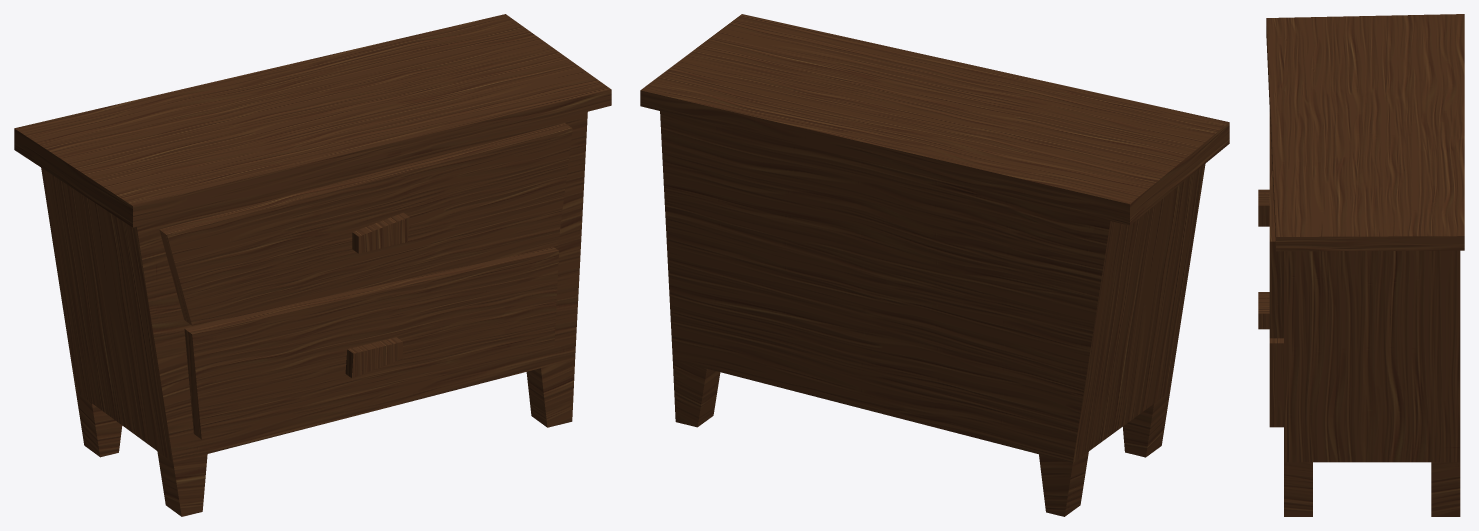
The model's file is LargeDrawer.fbx.
The picture shows the model from 3 angles, left to right: view 1: azimuth 30°, elevation 25°; view 2: azimuth 150°, elevation 25°; view 3: azimuth 270°, elevation 25°; orthographic projection. The views are drawn at different scales.
Parts seen in each view (by area): view 1: LargeDrawer; view 2: LargeDrawer; view 3: LargeDrawer.
Part boxes in pixels (<box>): LargeDrawer: <box>14,14,611,516</box>; LargeDrawer: <box>640,14,1229,516</box>; LargeDrawer: <box>1258,14,1464,516</box>.
Size of the model in its own units: 16593 by 10671 by 6629.
